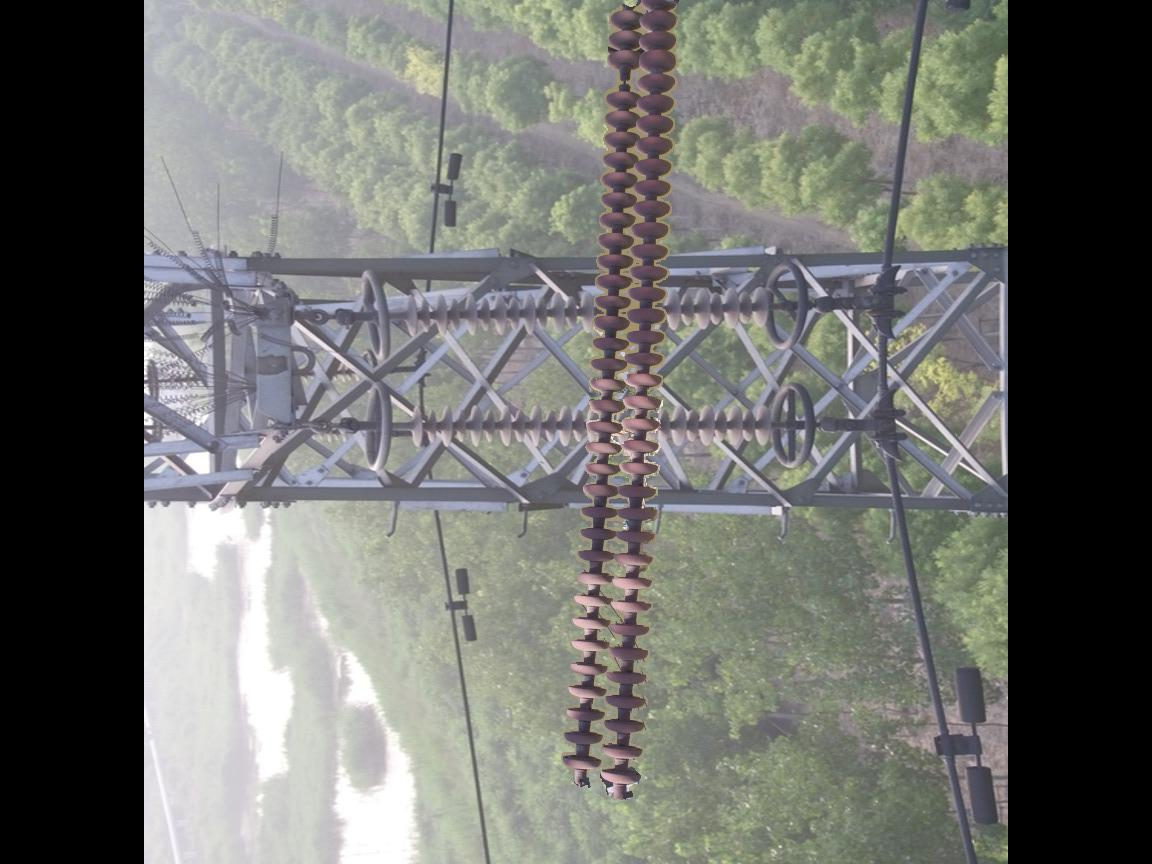insulator: (554, 1, 684, 800), (389, 273, 777, 346), (409, 391, 779, 456)
insulator_stringdrop: (602, 46, 643, 109)
